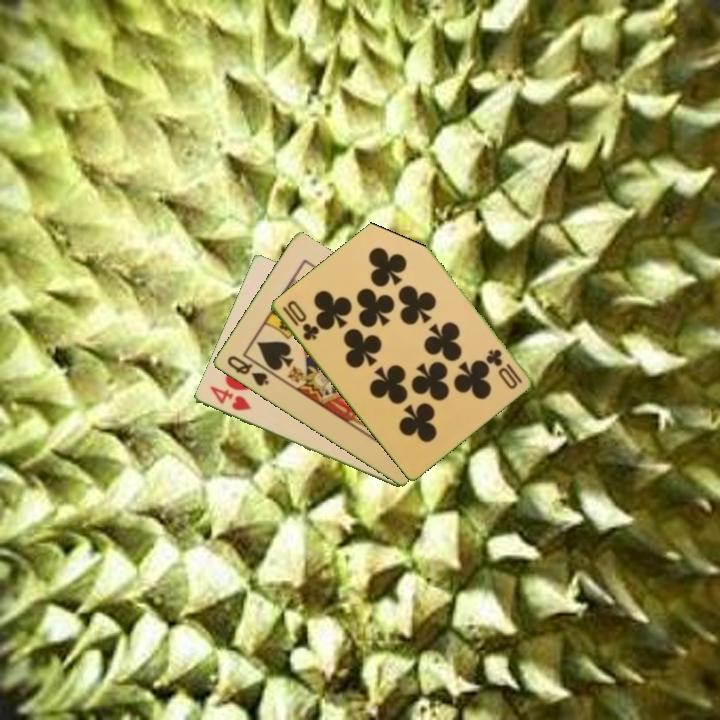10c: (278, 296, 321, 343), (483, 345, 525, 386)
4h: (206, 382, 254, 414)
Qs: (223, 352, 272, 390)
